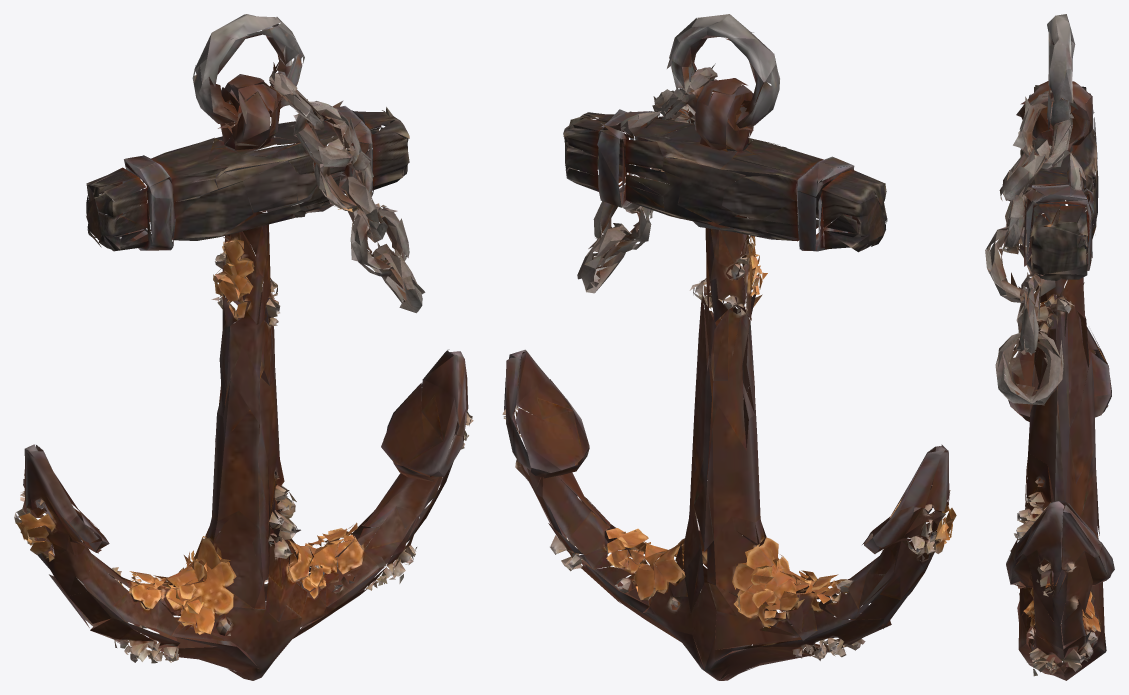
Rendered from anchor.glb.
3 renders of one model, left to right at view 1: azimuth 30°, elevation 25°; view 2: azimuth 150°, elevation 25°; view 3: azimuth 270°, elevation 25°, orthographic.
Parts seen in each view (by area): view 1: Mesh_0; view 2: Mesh_0; view 3: Mesh_0.
Boxes of the visible parts, x1=… form: Mesh_0: x1=14, y1=14, x2=473, y2=680; Mesh_0: x1=502, y1=14, x2=956, y2=680; Mesh_0: x1=985, y1=14, x2=1114, y2=680.
Size of the model in its own units: 1.92 by 2.7 by 0.4801.
1 material, 1 textured.
